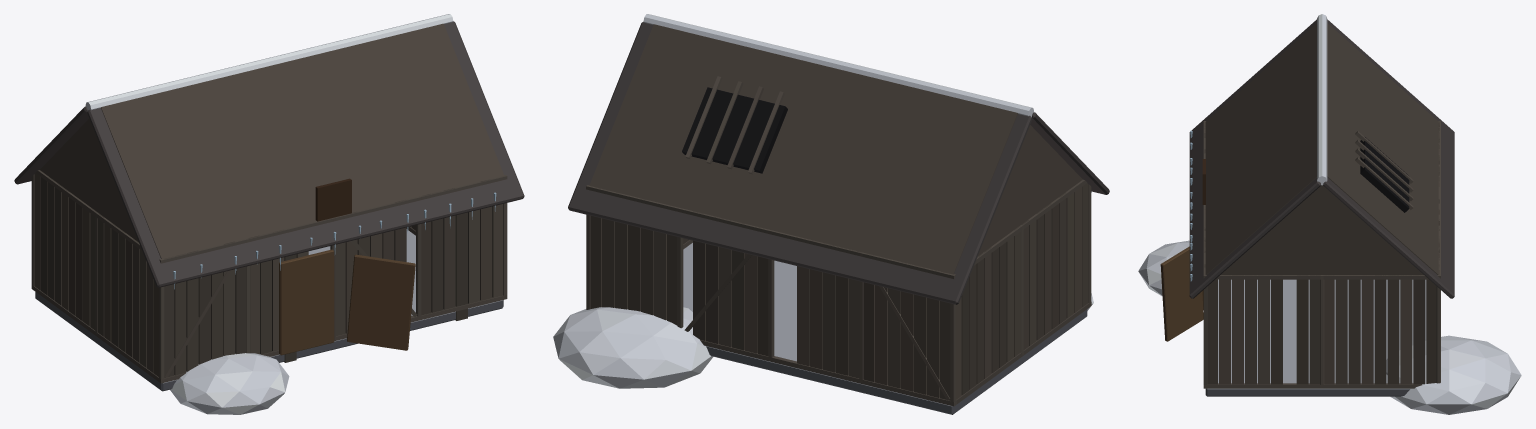
File: village_barn_abandoned.glb
The picture shows the model from 3 angles, left to right: view 1: azimuth 30°, elevation 25°; view 2: azimuth 150°, elevation 25°; view 3: azimuth 270°, elevation 25°; orthographic projection. The views are drawn at different scales.
Parts seen in each view (by area): view 1: village_barn_abandoned; view 2: village_barn_abandoned; view 3: village_barn_abandoned.
Boxes of the visible parts, x1,y1,x2,y2 form: village_barn_abandoned: (14,14,524,414); village_barn_abandoned: (553,14,1109,414); village_barn_abandoned: (1138,14,1521,414).
Size of the model in its own units: 15.16 by 10.7 by 14.8.
